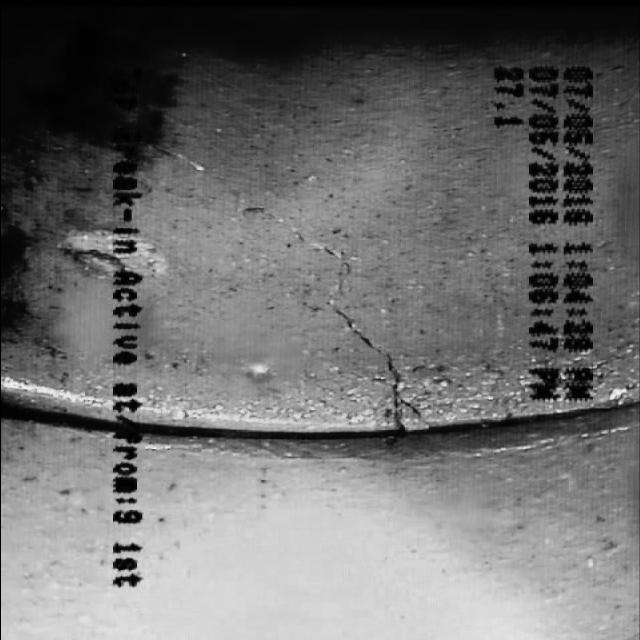Crack: (243, 215, 437, 395)
